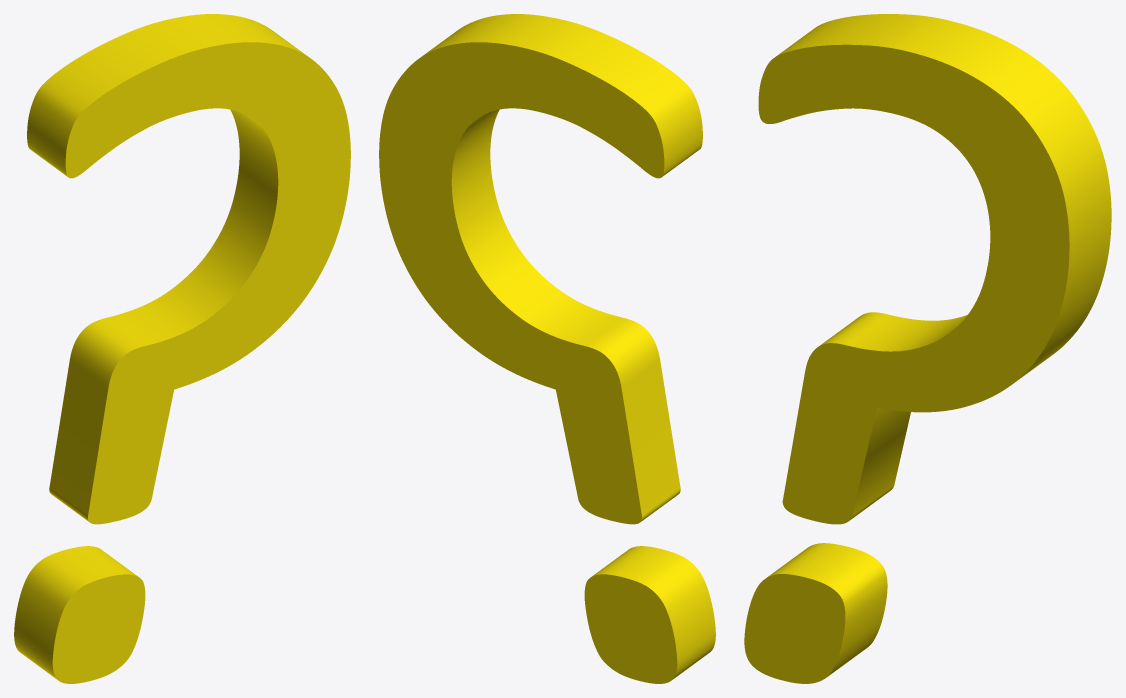
File: QuestionMark.fbx
3 views of the same model, side by side, from view 1: azimuth 30°, elevation 25°; view 2: azimuth 150°, elevation 25°; view 3: azimuth 330°, elevation 25° (orthographic). The views are drawn at different scales.
Parts seen in each view (by area): view 1: QuestionMark; view 2: QuestionMark; view 3: QuestionMark.
Part boxes in pixels (x1,y1,x2,y2): QuestionMark: (14, 14, 350, 683); QuestionMark: (379, 14, 715, 683); QuestionMark: (744, 14, 1111, 683).
Bounding box in the file's own units: 26.77 × 51.89 × 6.
